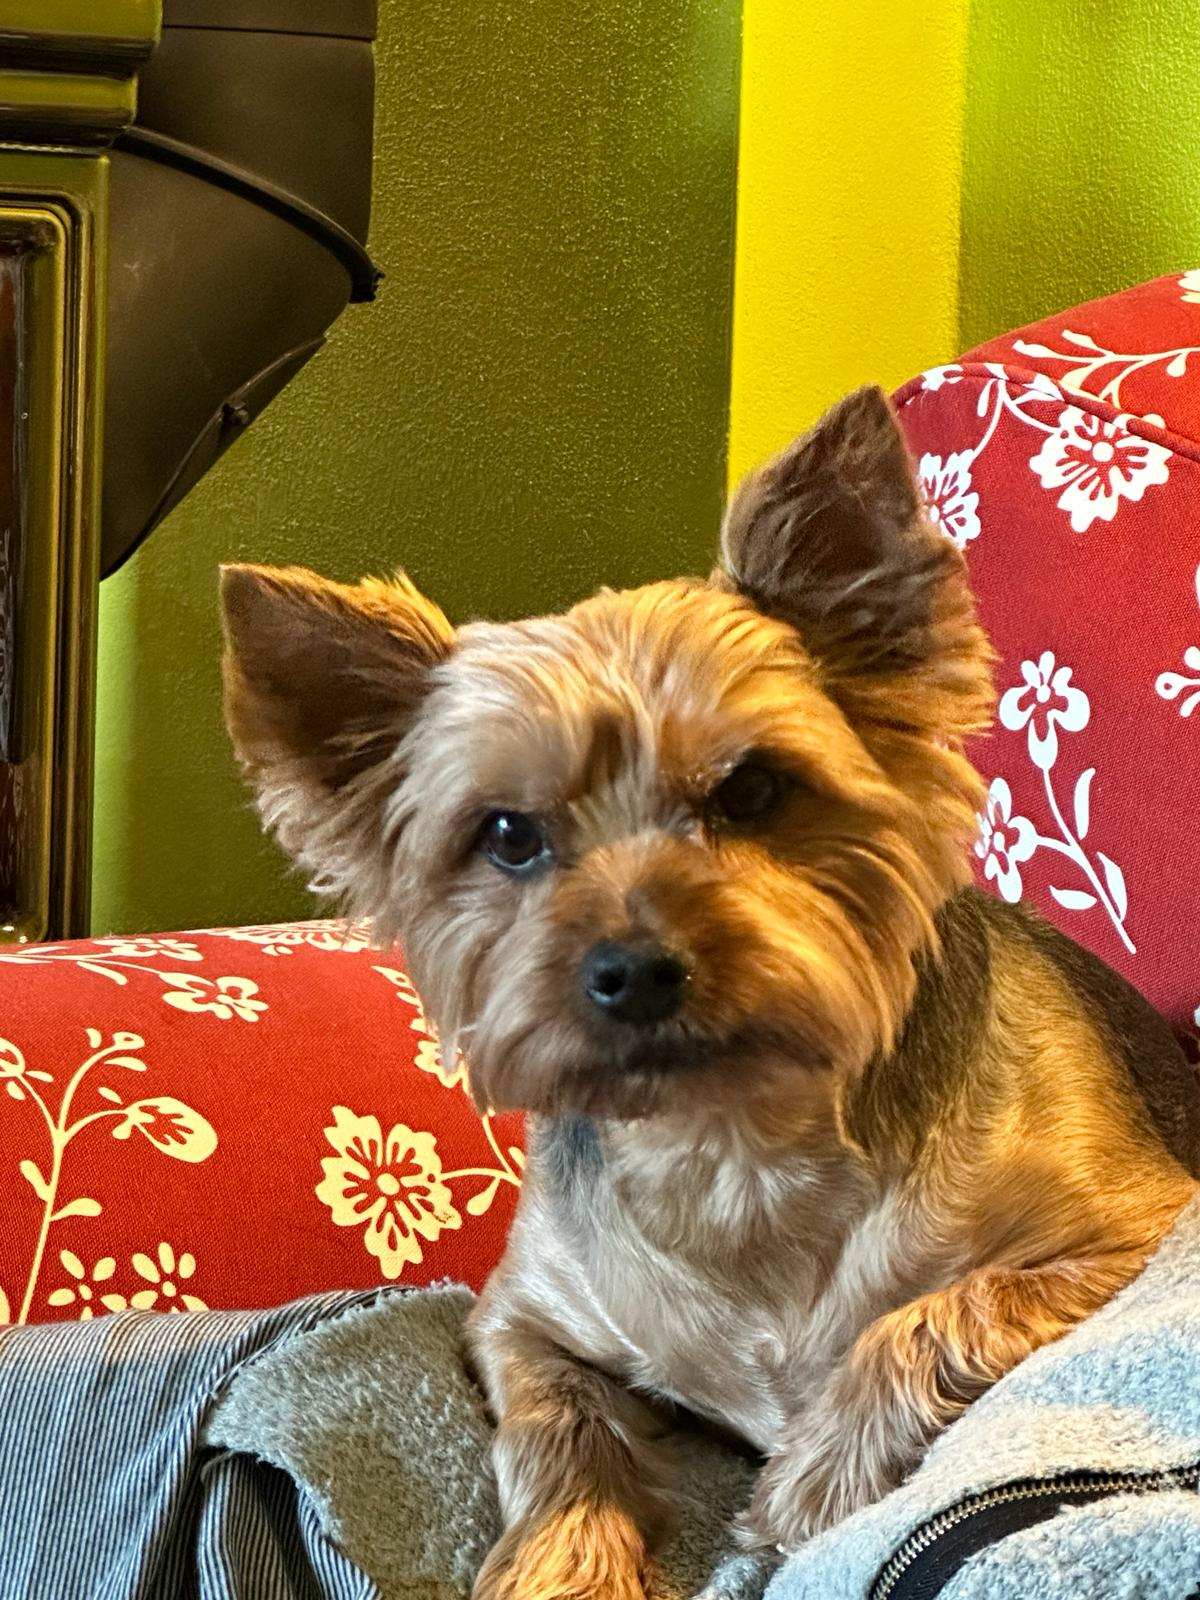stasiu: (142, 369, 1200, 1425)
